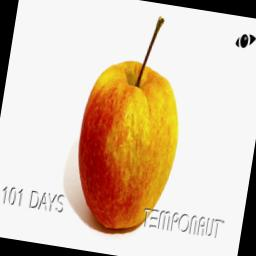Apple Unripe: (65, 0, 199, 241)
